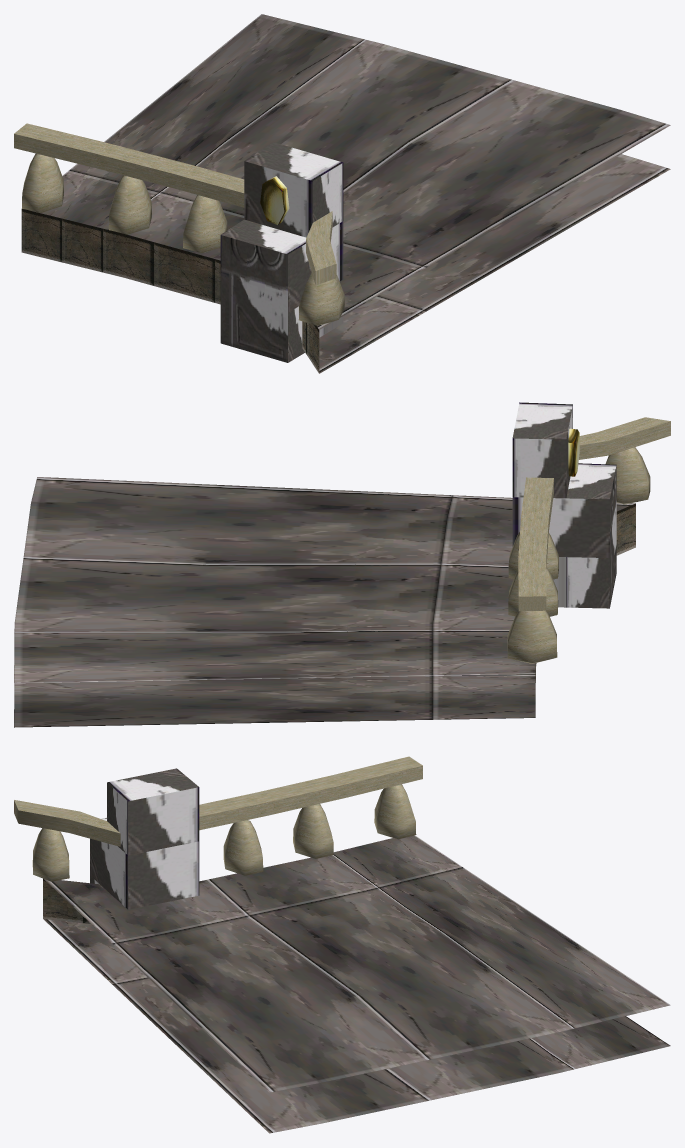
Rendered from CH09_SMAUG_PLAYSURFACE_LAIR30.obj.
The picture shows the model from 3 angles, top to bottom: view 1: azimuth 30°, elevation 25°; view 2: azimuth 150°, elevation 25°; view 3: azimuth 270°, elevation 25°; orthographic projection. The views are drawn at different scales.
Visible parts, largest first — view 1: lair30; view 2: lair30; view 3: lair30.
Part boxes in pixels (<box>): lair30: <box>14,14,670,373</box>; lair30: <box>14,402,670,727</box>; lair30: <box>14,756,670,1133</box>.
Bounding box in the file's own units: 849 × 232 × 892.
